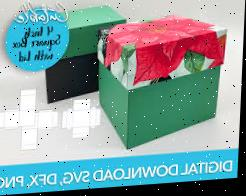cube: (95, 16, 229, 152)
